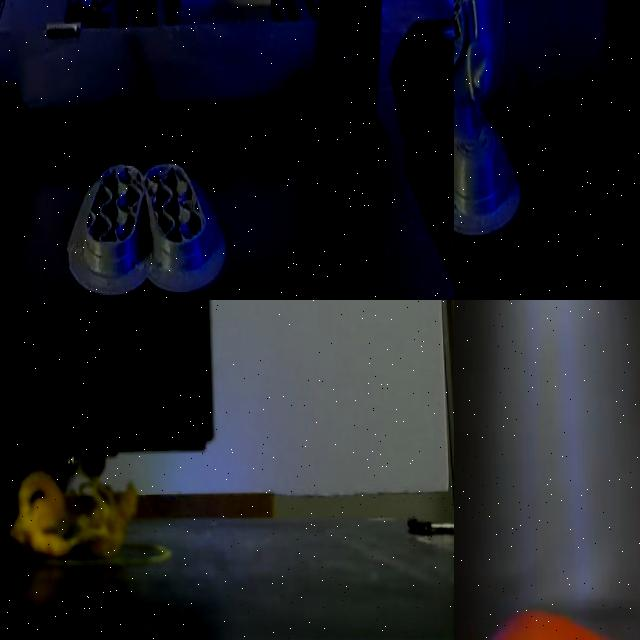spaghetti: (9, 454, 142, 570)
